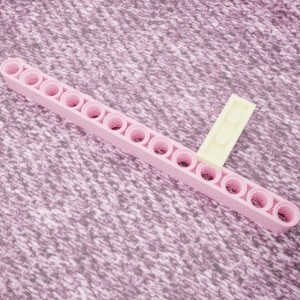lego: (0, 58, 299, 233), (193, 93, 256, 171)
